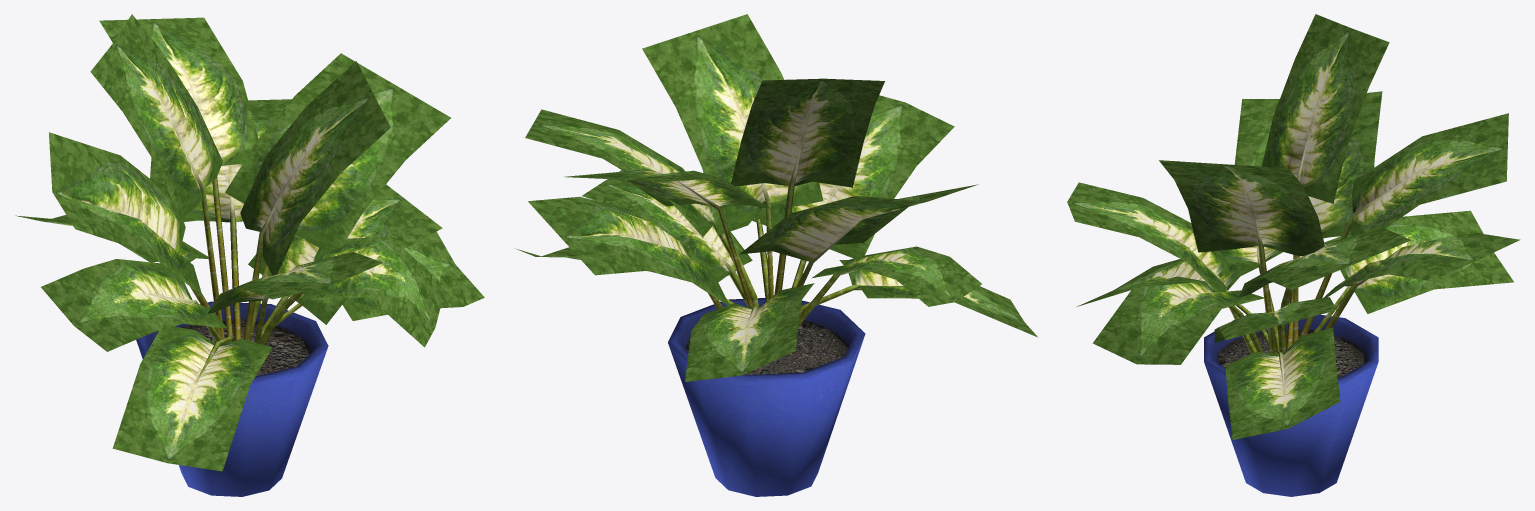
Rendered from Furniture_foliageplant_02b_LOD1.fbx.
3 views of the same model, side by side, from view 1: azimuth 30°, elevation 25°; view 2: azimuth 150°, elevation 25°; view 3: azimuth 270°, elevation 25° (orthographic). The views are drawn at different scales.
Visible parts, largest first — view 1: foliageplant_02b_B, foliageplant_02b_A; view 2: foliageplant_02b_B, foliageplant_02b_A; view 3: foliageplant_02b_B, foliageplant_02b_A.
Part boxes in pixels (left/top/right/bottom): foliageplant_02b_B: left=15, top=14, right=484, bottom=471; foliageplant_02b_A: left=136, top=301, right=328, bottom=496; foliageplant_02b_B: left=515, top=14, right=1037, bottom=381; foliageplant_02b_A: left=668, top=298, right=865, bottom=496; foliageplant_02b_B: left=1067, top=14, right=1520, bottom=439; foliageplant_02b_A: left=1204, top=314, right=1378, bottom=496.
Bounding box in the file's own units: 0.4925 × 0.4949 × 0.4934.
2 materials, 2 textured.
